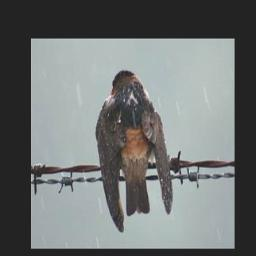Swallow: (95, 69, 174, 234)
